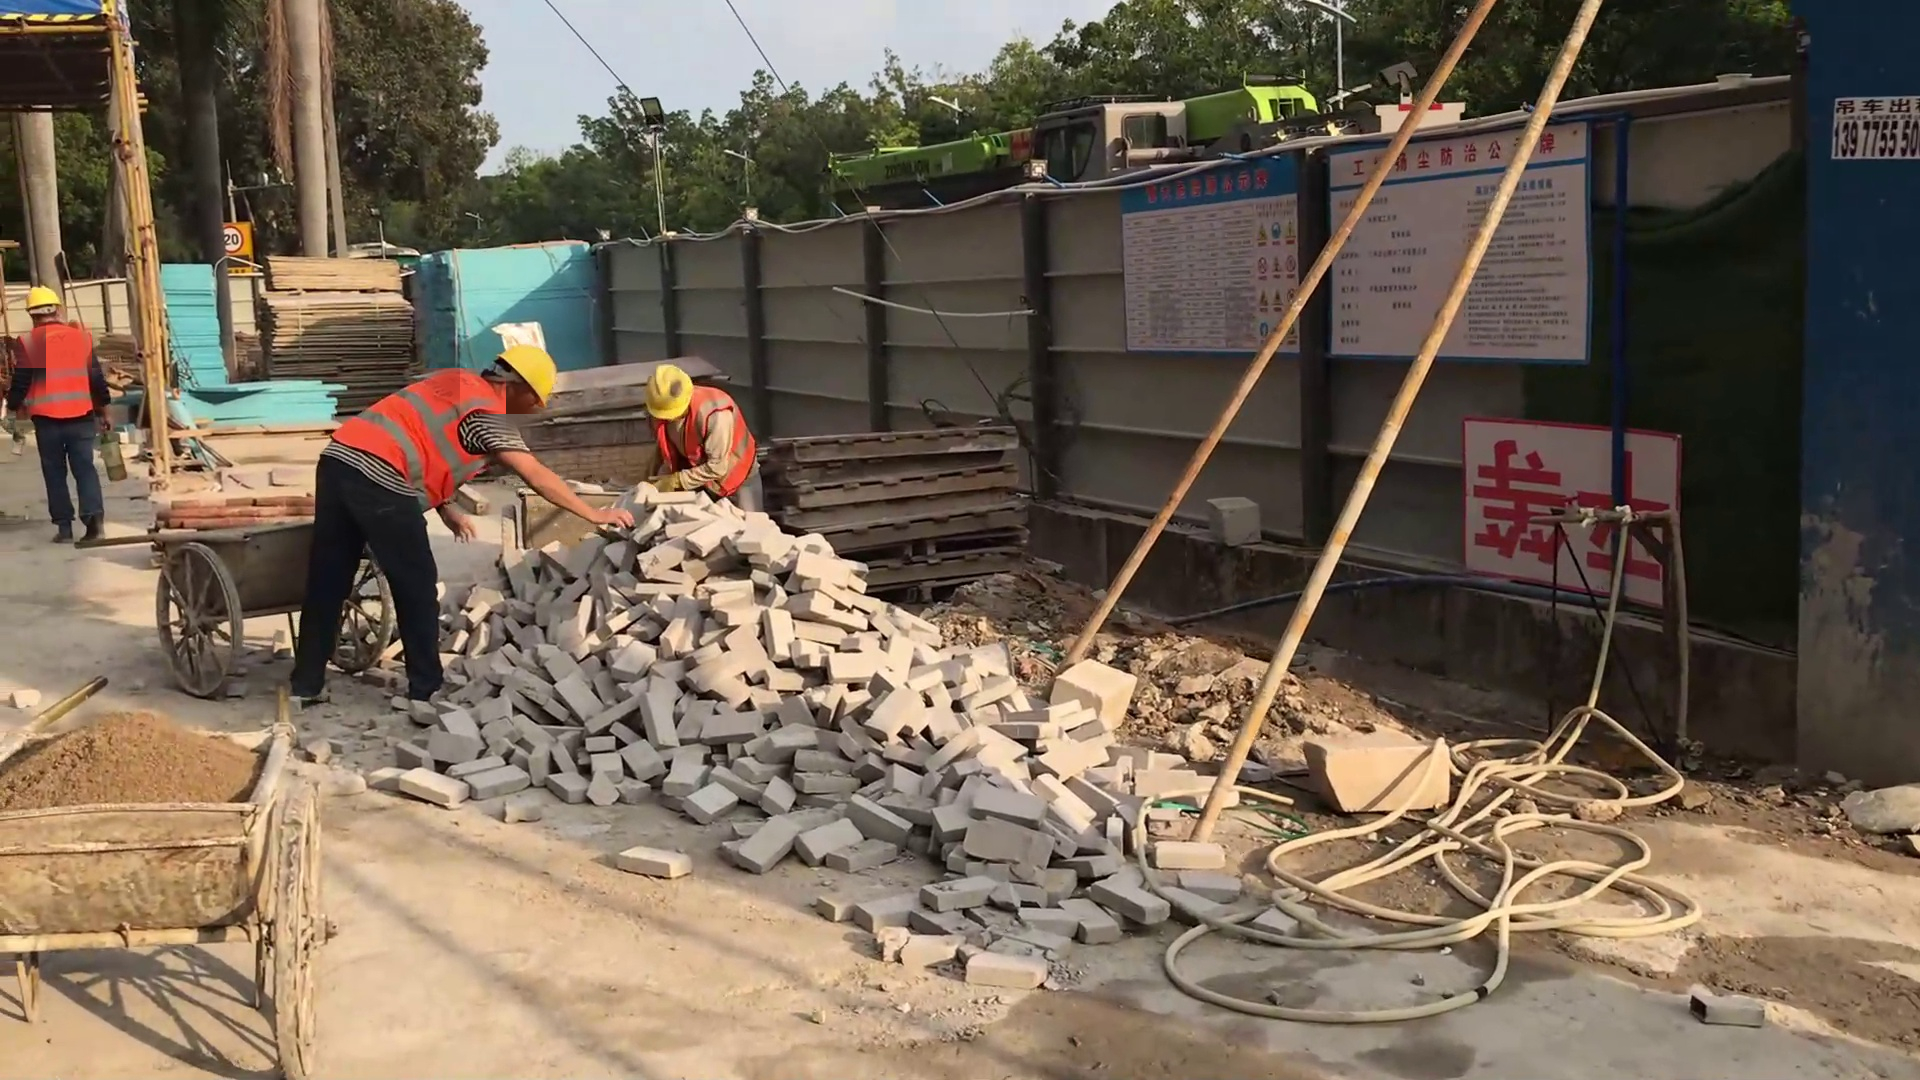board: (253, 256, 414, 407)
handcart: (1, 675, 341, 1079), (80, 511, 395, 703)
helmet: (485, 338, 562, 415), (643, 361, 693, 420), (22, 283, 60, 320)
person: (288, 340, 635, 712), (1, 280, 116, 547), (641, 358, 768, 520)
slogan: (1328, 116, 1588, 365), (1472, 415, 1675, 615), (1121, 153, 1301, 359), (220, 220, 254, 277)
vest: (328, 366, 501, 512), (653, 383, 758, 499), (14, 323, 99, 421)
